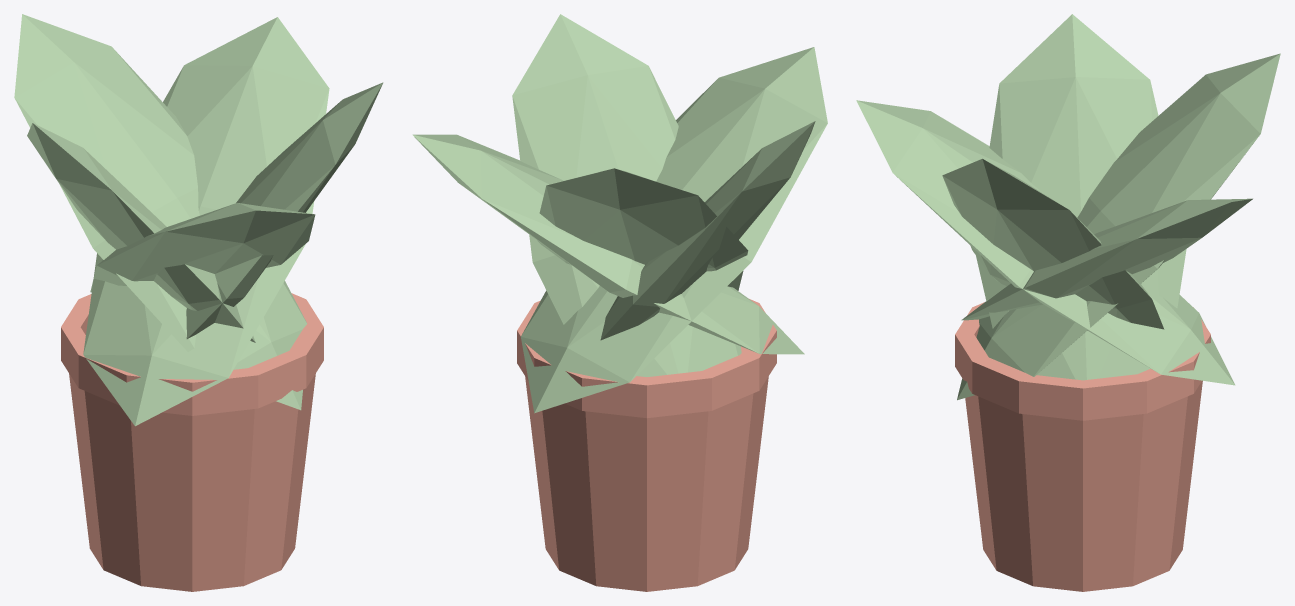
Rendered from small-plant.glb.
3 views of the same model, side by side, from view 1: azimuth 30°, elevation 25°; view 2: azimuth 150°, elevation 25°; view 3: azimuth 270°, elevation 25° (orthographic). The views are drawn at different scales.
Parts seen in each view (by area): view 1: plant-small; view 2: plant-small; view 3: plant-small.
Boxes of the visible parts, x1,y1,x2,y2 form: plant-small: (14, 14, 383, 591); plant-small: (412, 14, 827, 591); plant-small: (856, 14, 1280, 591).
Bounding box in the file's own units: 0.2028 × 0.28 × 0.2323.
